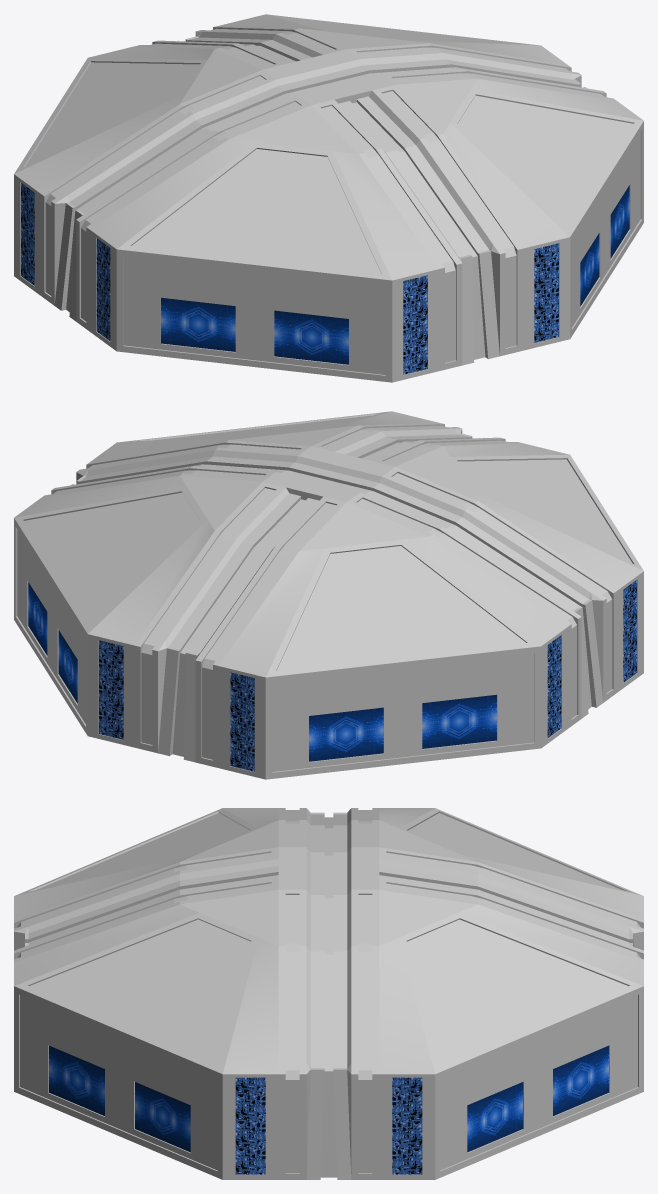
The model's file is lobby scene 1.fbx.
3 views of the same model, one above another, from view 1: azimuth 30°, elevation 25°; view 2: azimuth 150°, elevation 25°; view 3: azimuth 270°, elevation 25° (orthographic). The views are drawn at different scales.
Parts seen in each view (by area): view 1: Material2.002, Material2.004, Material2.003, Material2.001, Material2.006, Material2.007; view 2: Material2.002, Material2.004, Material2.003, Material2.001, Material2.006, Material2.007; view 3: Material2.002, Material2.004, Material2.003, Material2.001, Material2.006, Material2.007.
Part boxes in pixels (x1,y1,x2,y2): Material2.002: [23, 16, 642, 375]; Material2.004: [14, 14, 643, 382]; Material2.003: [14, 14, 643, 382]; Material2.001: [54, 31, 586, 365]; Material2.006: [161, 185, 629, 364]; Material2.007: [21, 183, 558, 374]; Material2.002: [15, 413, 634, 772]; Material2.004: [14, 411, 643, 779]; Material2.003: [14, 411, 643, 779]; Material2.001: [71, 428, 603, 762]; Material2.006: [28, 582, 496, 761]; Material2.007: [99, 580, 636, 771]; Material2.002: [14, 808, 643, 1179]; Material2.004: [14, 808, 643, 1179]; Material2.003: [14, 808, 643, 1179]; Material2.001: [14, 808, 643, 1179]; Material2.006: [49, 1045, 608, 1152]; Material2.007: [235, 1077, 422, 1174].
Bounding box in the file's own units: 5832 × 1821 × 5832.
